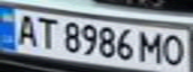6: (115, 26, 139, 62)
8: (57, 19, 81, 54), (97, 25, 118, 60)
9: (78, 21, 100, 56)
A: (9, 11, 42, 47)
M: (136, 29, 166, 64)
O: (160, 32, 190, 66)
T: (33, 16, 60, 50)
